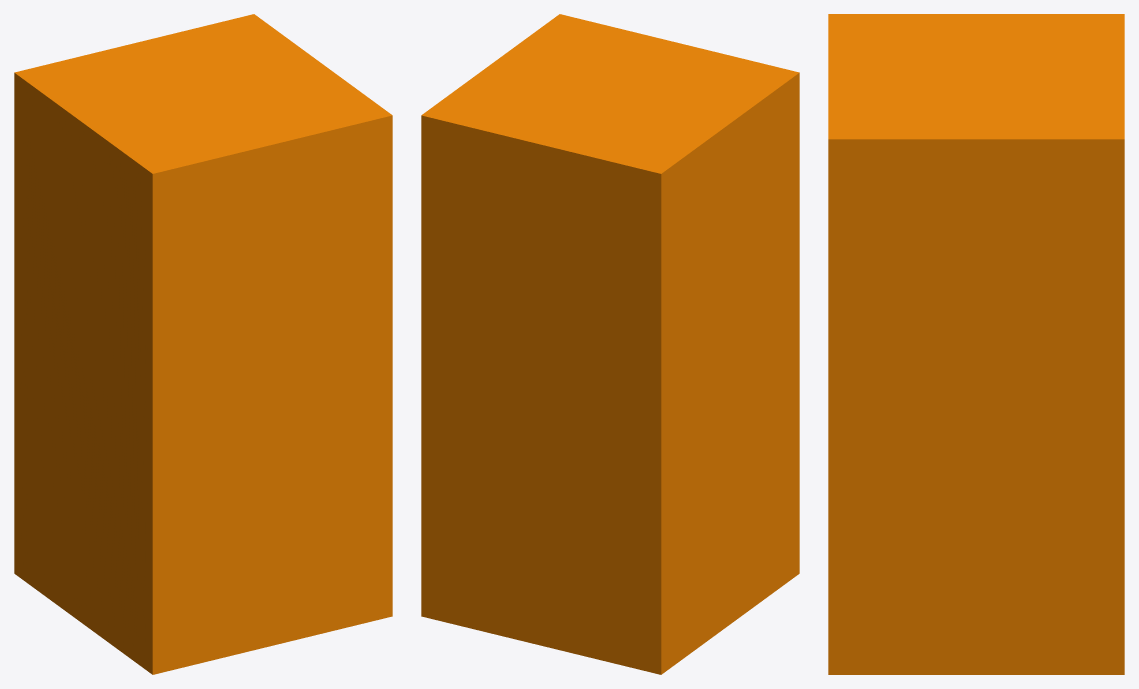
Rendered from YellowThickEdges.fbx.
3 renders of one model, left to right at view 1: azimuth 30°, elevation 25°; view 2: azimuth 150°, elevation 25°; view 3: azimuth 270°, elevation 25°, orthographic. The views are drawn at different scales.
Parts seen in each view (by area): view 1: 4.BODY.green.023; view 2: 4.BODY.green.023; view 3: 4.BODY.green.023.
Boxes of the visible parts, <box> form: 4.BODY.green.023: <box>14,14,392,674</box>; 4.BODY.green.023: <box>421,14,799,674</box>; 4.BODY.green.023: <box>828,14,1124,674</box>.
Bounding box in the file's own units: 101 × 201 × 101.
